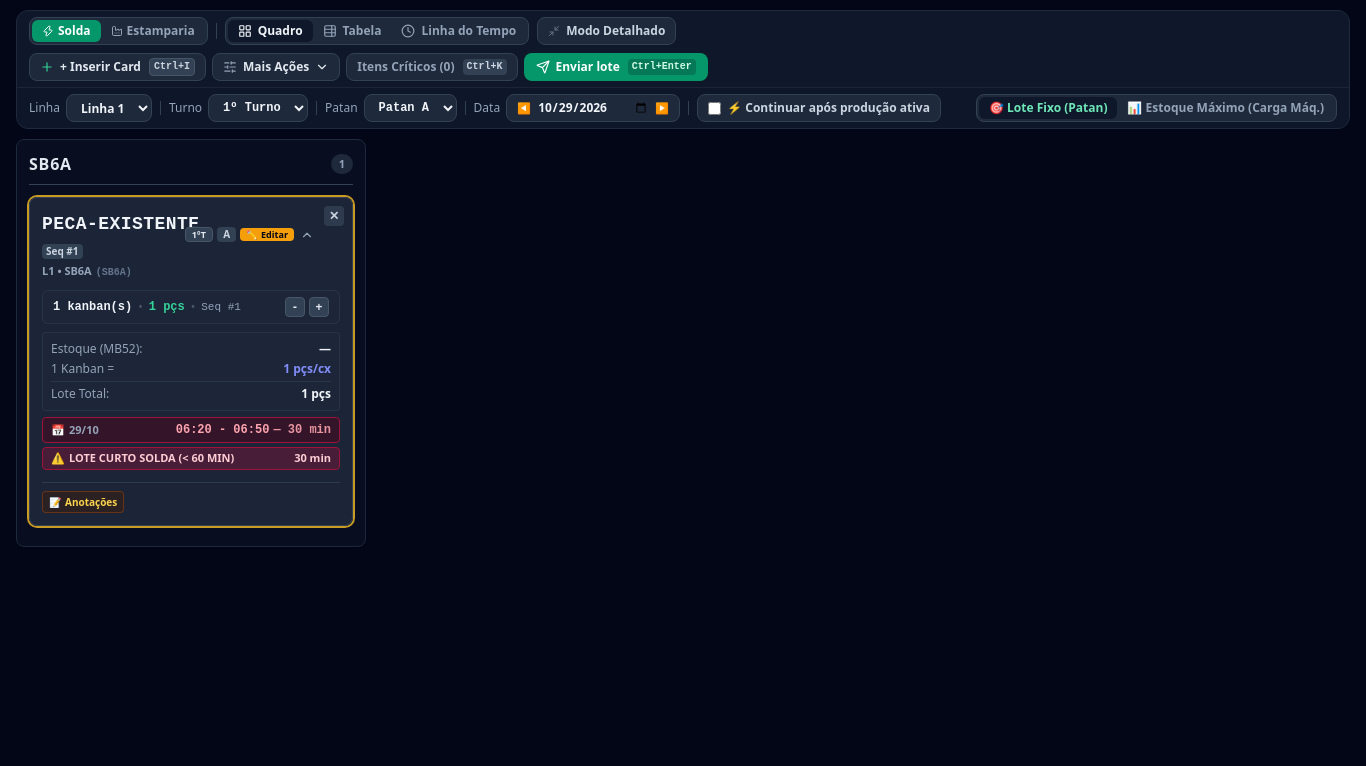
Scenario: ProgramacaoPatan › allows opening '+ Inserir Card' modal and adding a card manually to the board
Expected: the text "PECA-EXISTENTE" is shown, [42,214,200,234]
Click the button "+ Inserir Card Ctrl+I".
click(118, 67)  # box [29,53,206,81]
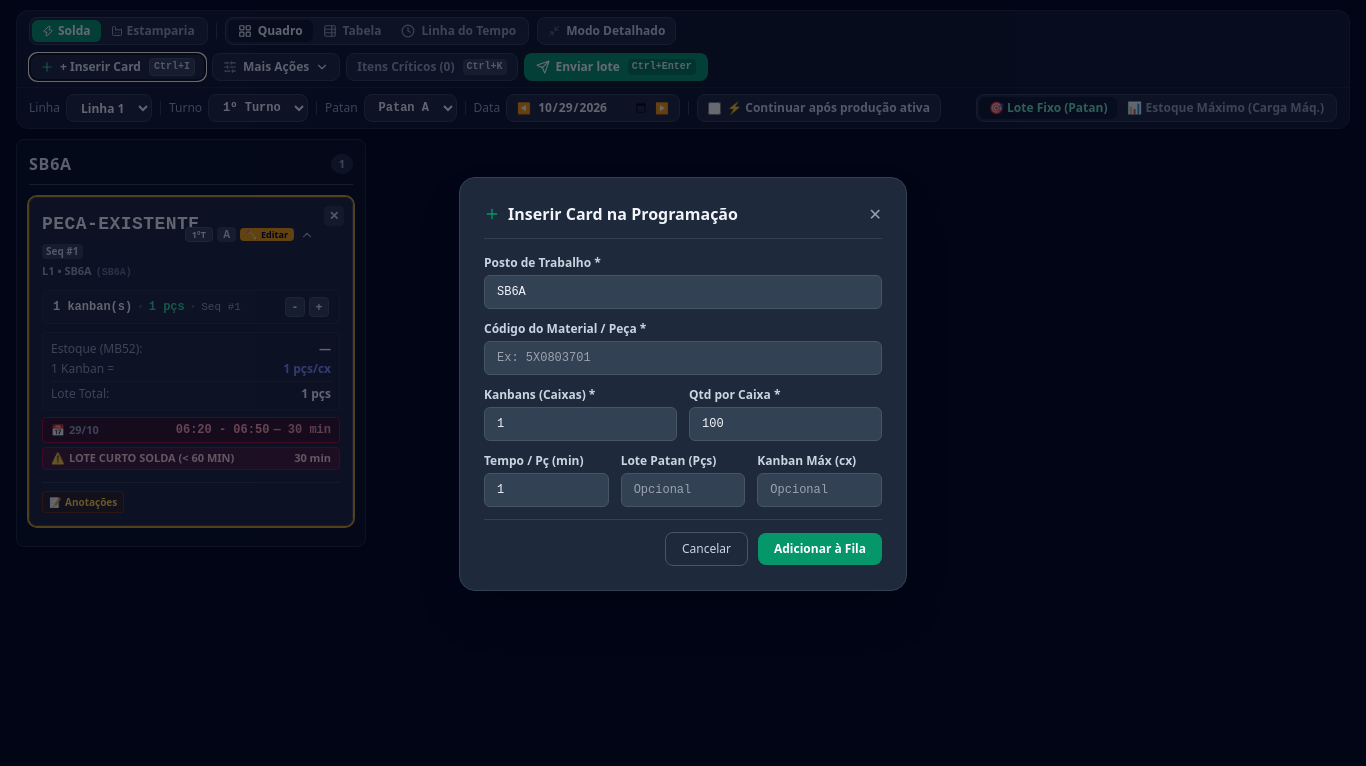
Expected: the text "Inserir Card na Programação" is shown, [508,202,738,226]
Type "PECA-NOVA-MANUAL" into the field with placeholder "Ex: 5X0803701".
click(683, 358); type("PECA-NOVA-MANUAL")  # box [484,341,882,375]
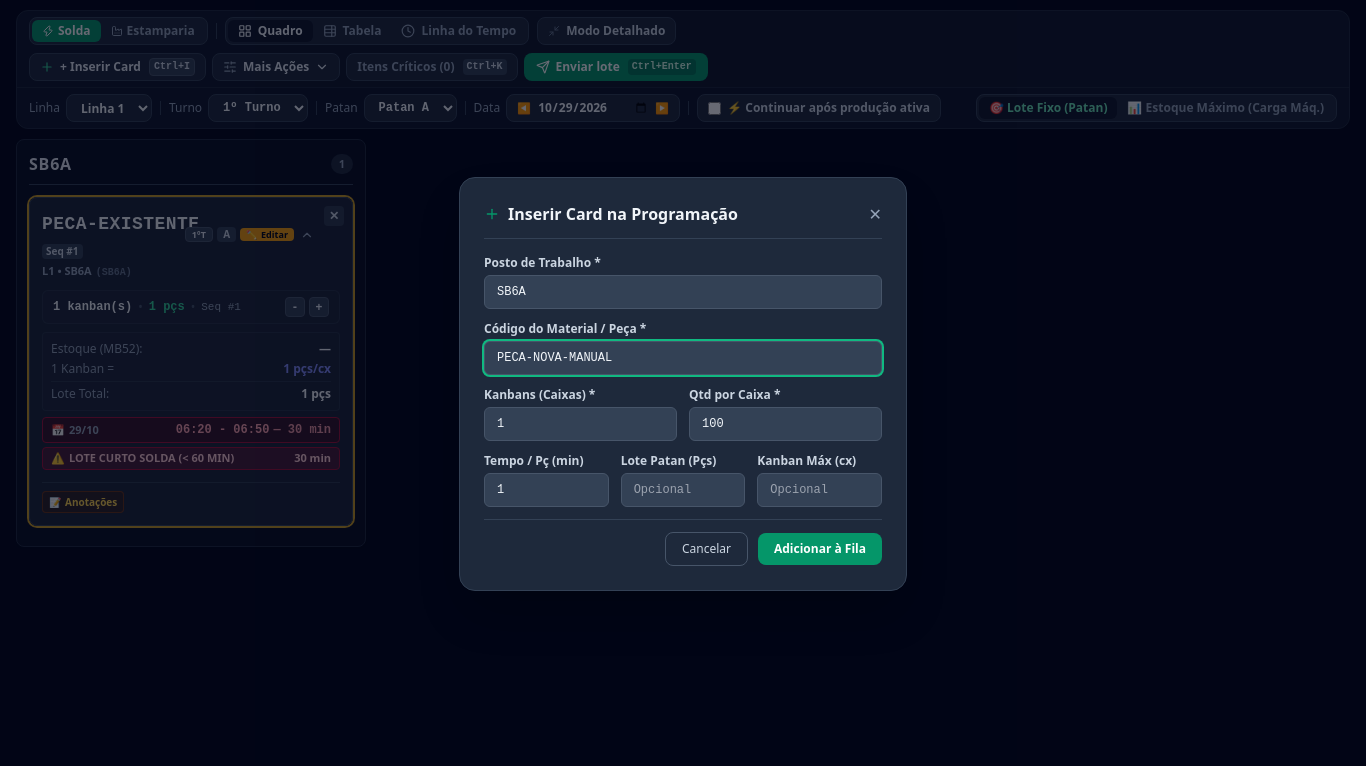
Click the button "Adicionar à Fila".
click(820, 549)  # box [758,533,882,565]
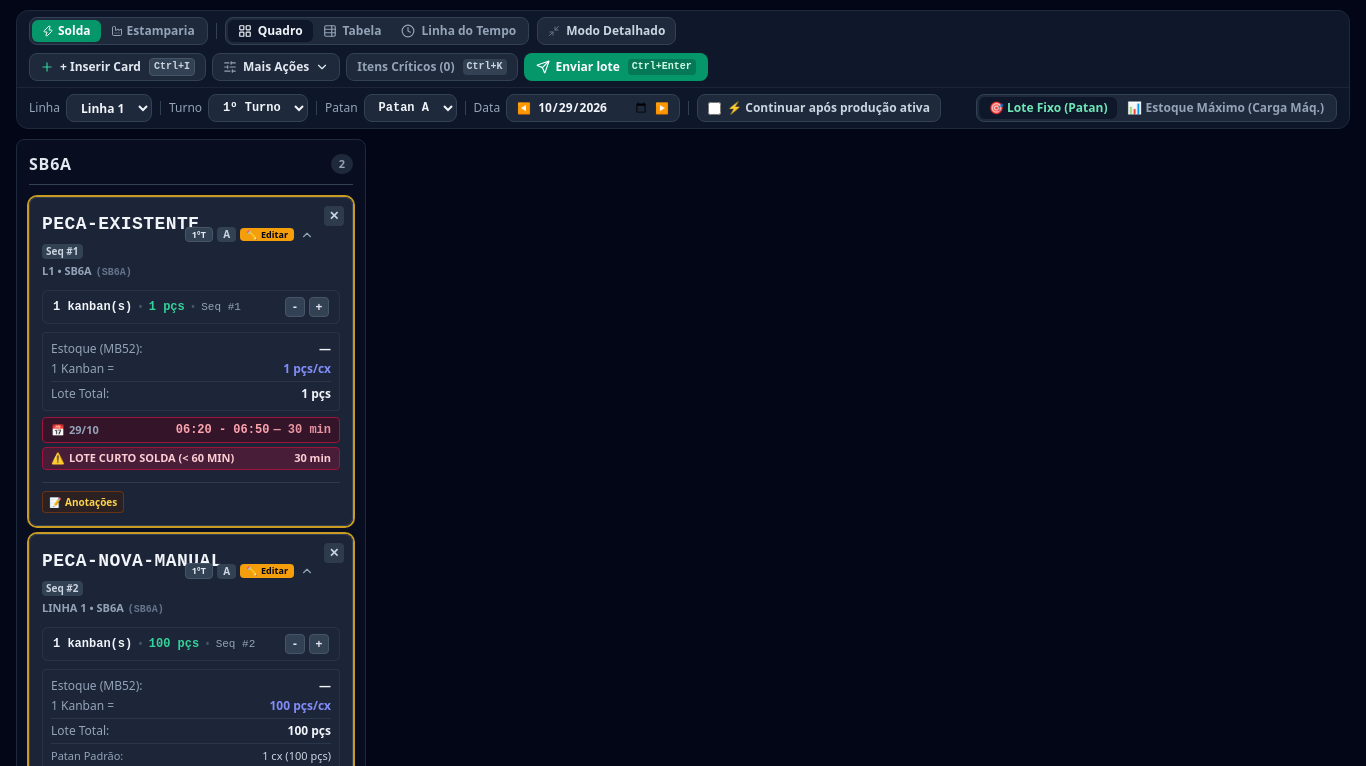
Expected: the text "PECA-NOVA-MANUAL" is shown, [42,550,222,570]
